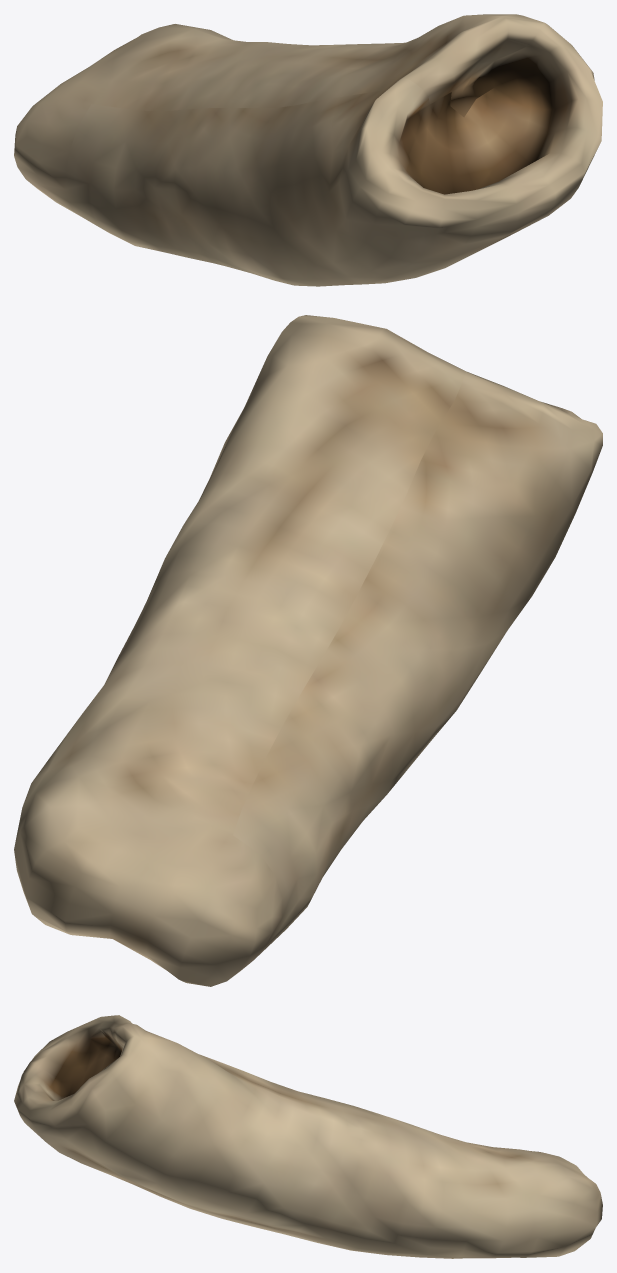
Rendered from lower_incisor5.glb.
3 views of the same model, one above another, from view 1: azimuth 30°, elevation 25°; view 2: azimuth 150°, elevation 25°; view 3: azimuth 270°, elevation 25° (orthographic). The views are drawn at different scales.
Parts seen in each view (by area): view 1: Group54163_Mesh.007; view 2: Group54163_Mesh.007; view 3: Group54163_Mesh.007.
Boxes of the visible parts, x1,y1,x2,y2 form: Group54163_Mesh.007: [14, 14, 602, 286]; Group54163_Mesh.007: [14, 315, 602, 986]; Group54163_Mesh.007: [14, 1015, 602, 1258].
Size of the model in its own units: 0.0135 by 0.0158 by 0.033.
Materials: 1 (1 with a texture image).
